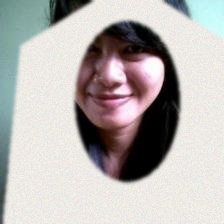Mukena: (15, 28, 224, 224)
